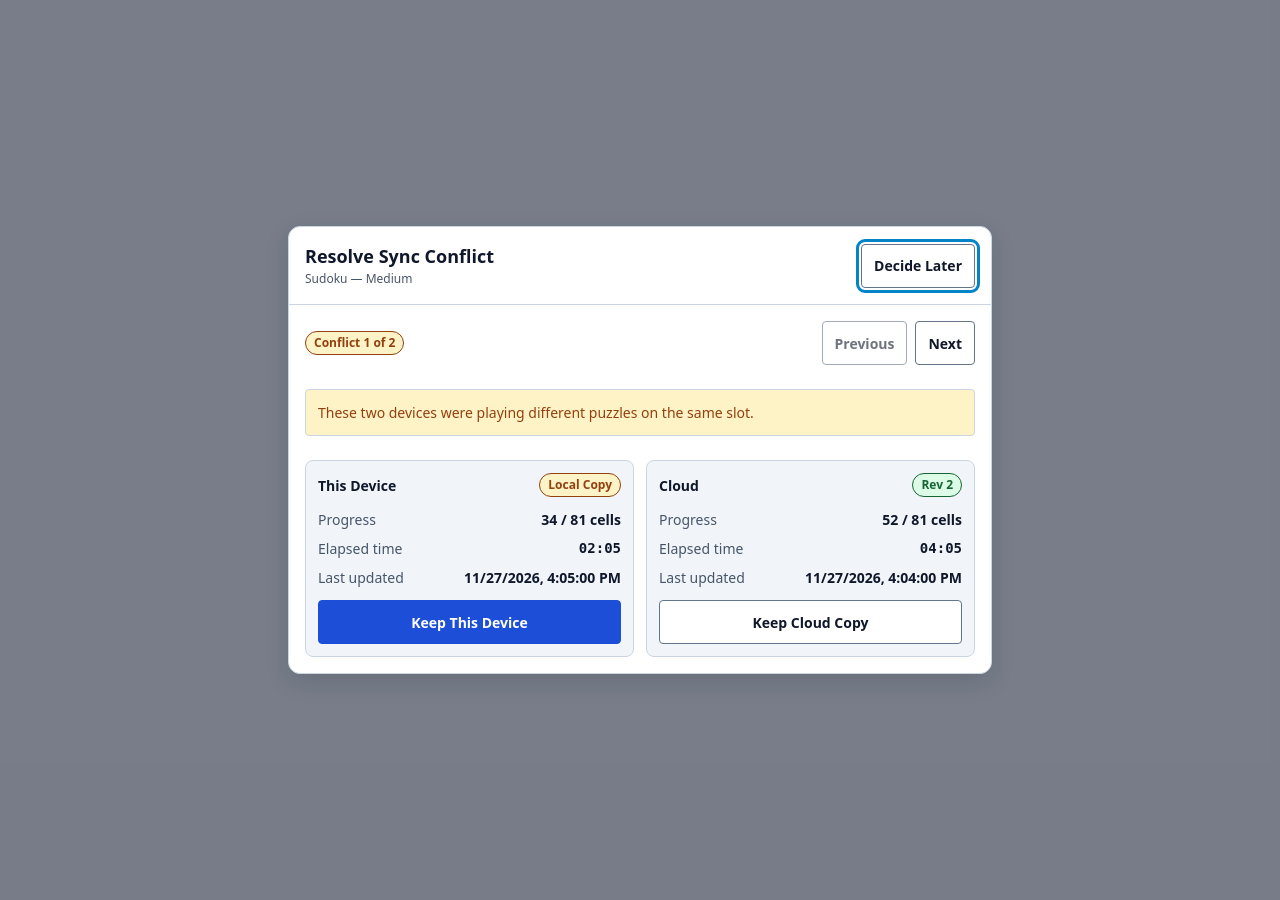
Test case: SyncConflictModal › renders side-by-side device vs cloud metadata and resolves Keep Local / Keep Cloud
Later steps or results of the test are not shown.
Expected: the dialog "Resolve Sync Conflict" is shown, [288,226,992,674]
Expected: the text "Sudoku — Medium" is shown, [305,270,412,287]
Click the button "Keep This Device". click: (470, 622)
box: [318,600,621,644]
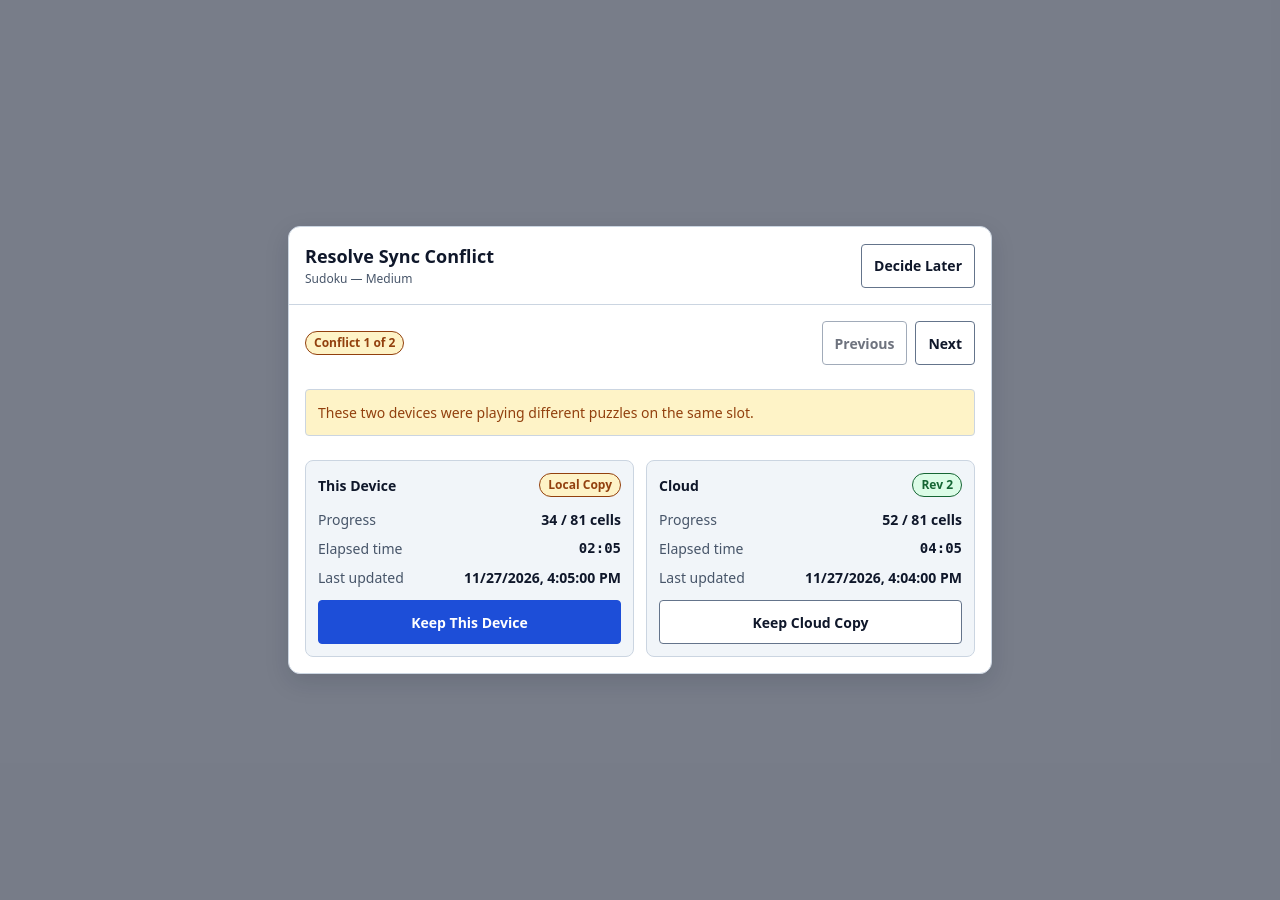
# Step to second conflict (cleared local vs completed cloud)
Click the button "Next". click: (945, 343)
box: [916,321,975,365]
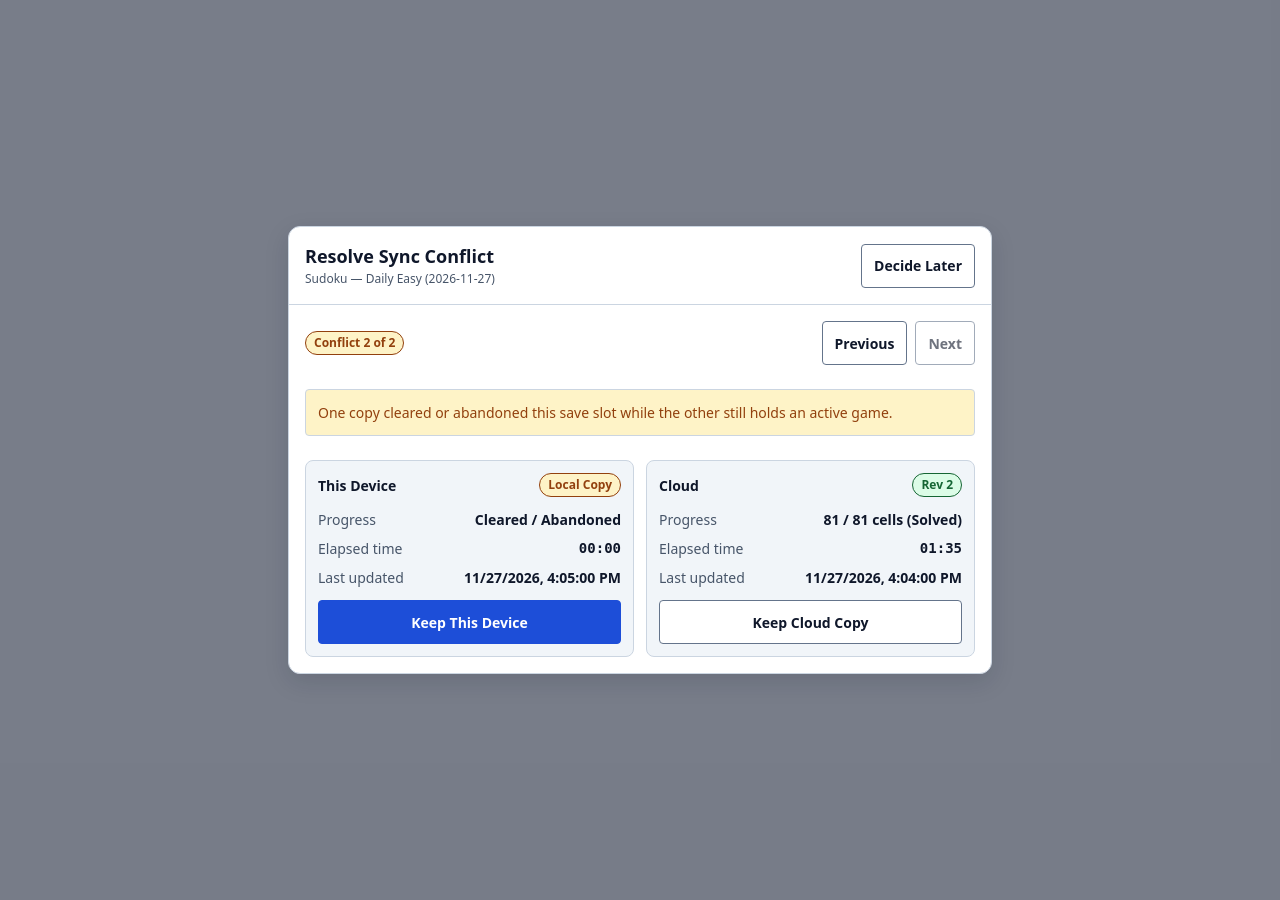
Now the text "Conflict 2 of 2" is shown, box [305,331,404,355]
Now the text "Sudoku — Daily Easy (2026-11-27)" is shown, box [305,270,495,288]
Now the text "Cleared / Abandoned" is shown, box [475,509,621,530]
